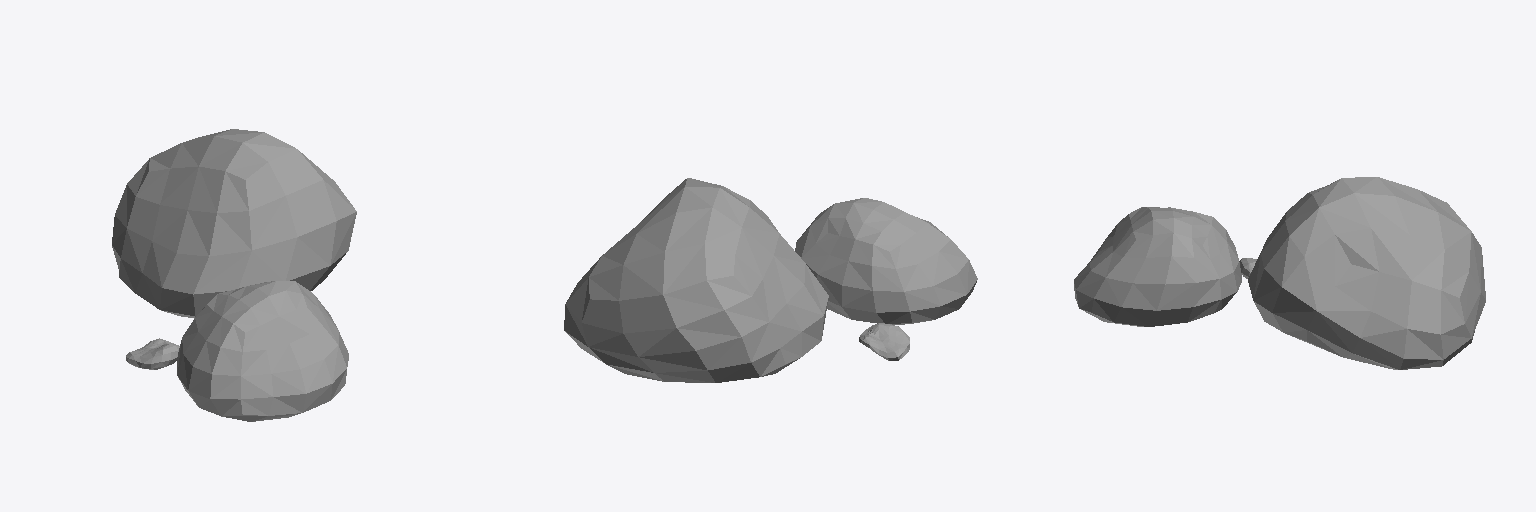
The model's file is Stones.obj.
The picture shows the model from 3 angles: view 1: azimuth 30°, elevation 25°; view 2: azimuth 150°, elevation 25°; view 3: azimuth 270°, elevation 25°; orthographic projection.
Size of the model in its own units: 5.3 by 3.28 by 7.1.